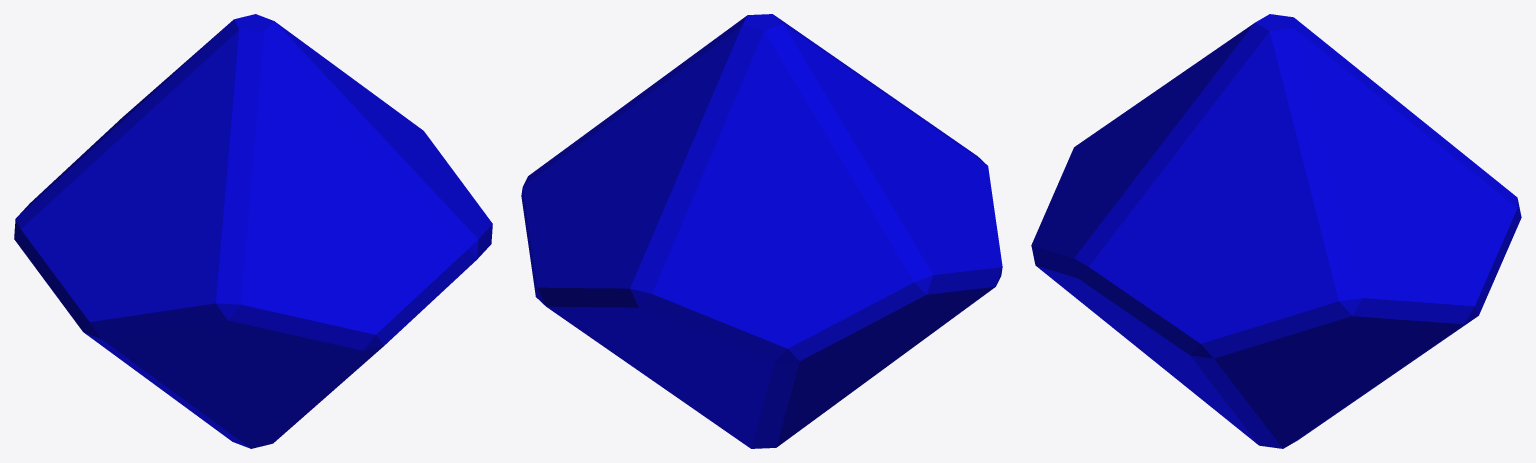
Rendered from die10.gltf.
3 renders of one model, left to right at view 1: azimuth 30°, elevation 25°; view 2: azimuth 150°, elevation 25°; view 3: azimuth 270°, elevation 25°, orthographic.
Visible parts, largest first — view 1: Die10; view 2: Die10; view 3: Die10.
Part boxes in pixels (box(x1,y1,x2,y2)): Die10: box(14, 14, 492, 448); Die10: box(521, 14, 1002, 448); Die10: box(1031, 14, 1521, 448).
Bounding box in the file's own units: 1.84 × 1.81 × 1.93.
